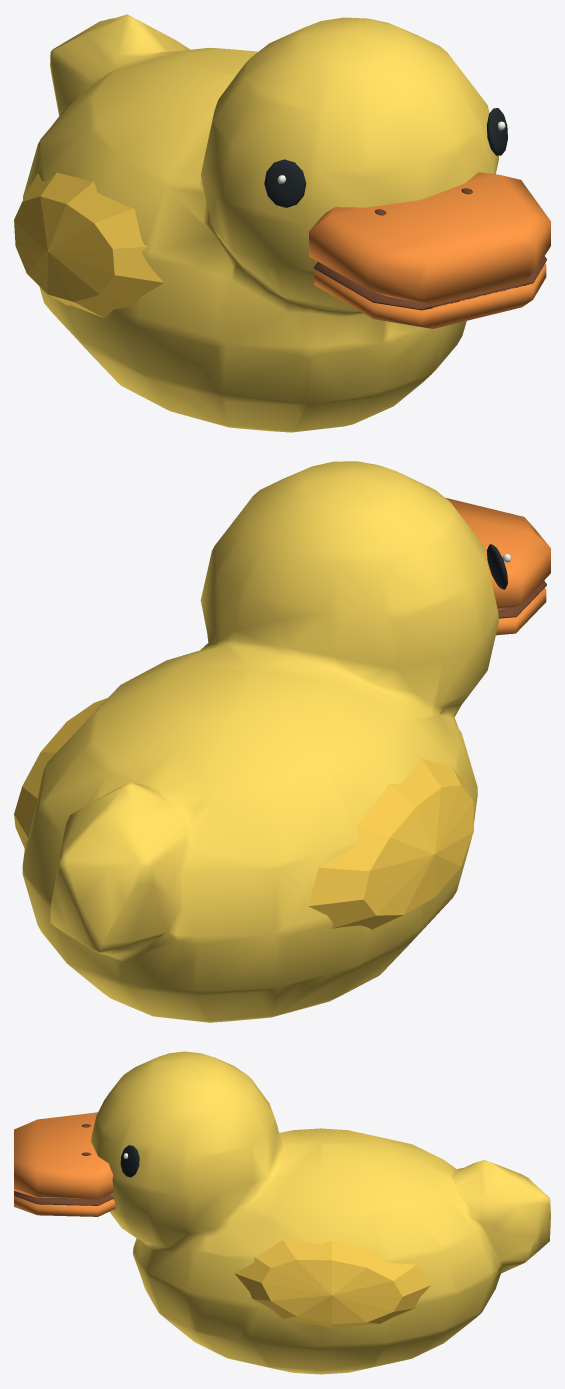
The model's file is P049_rubber_duck_refined.glb.
3 views of the same model, one above another, from view 1: azimuth 30°, elevation 25°; view 2: azimuth 150°, elevation 25°; view 3: azimuth 270°, elevation 25° (orthographic). The views are drawn at different scales.
Parts seen in each view (by area): view 1: Duck_Body_Head_Tail, Duck_Bill_Upper, Duck_Folded_Wing_-1, Duck_Bill_Lower, Duck_Bill_Mouth_Line, Duck_Eye_-1, Duck_Eye_1; view 2: Duck_Body_Head_Tail, Duck_Folded_Wing_-1, Duck_Bill_Upper, Duck_Folded_Wing_1, Duck_Bill_Lower; view 3: Duck_Body_Head_Tail, Duck_Folded_Wing_1, Duck_Bill_Upper, Duck_Bill_Lower, Duck_Bill_Mouth_Line, Duck_Eye_1.
Part boxes in pixels (<box>): Duck_Body_Head_Tail: <box>23,14,498,432</box>; Duck_Bill_Upper: <box>309,172,550,304</box>; Duck_Folded_Wing_-1: <box>14,172,163,318</box>; Duck_Bill_Lower: <box>314,263,546,328</box>; Duck_Bill_Mouth_Line: <box>314,256,546,310</box>; Duck_Eye_-1: <box>264,159,306,207</box>; Duck_Eye_1: <box>486,108,507,155</box>; Duck_Body_Head_Tail: <box>22,461,498,1022</box>; Duck_Folded_Wing_-1: <box>308,758,473,929</box>; Duck_Bill_Upper: <box>445,497,550,610</box>; Duck_Folded_Wing_1: <box>14,698,107,848</box>; Duck_Bill_Lower: <box>496,588,546,635</box>; Duck_Body_Head_Tail: <box>91,1051,550,1374</box>; Duck_Folded_Wing_1: <box>234,1240,430,1328</box>; Duck_Bill_Upper: <box>14,1112,113,1198</box>; Duck_Bill_Lower: <box>14,1196,115,1216</box>; Duck_Bill_Mouth_Line: <box>14,1191,113,1205</box>; Duck_Eye_1: <box>120,1145,139,1177</box>.
Bounding box in the file's own units: 0.1791 × 0.1955 × 0.319.
